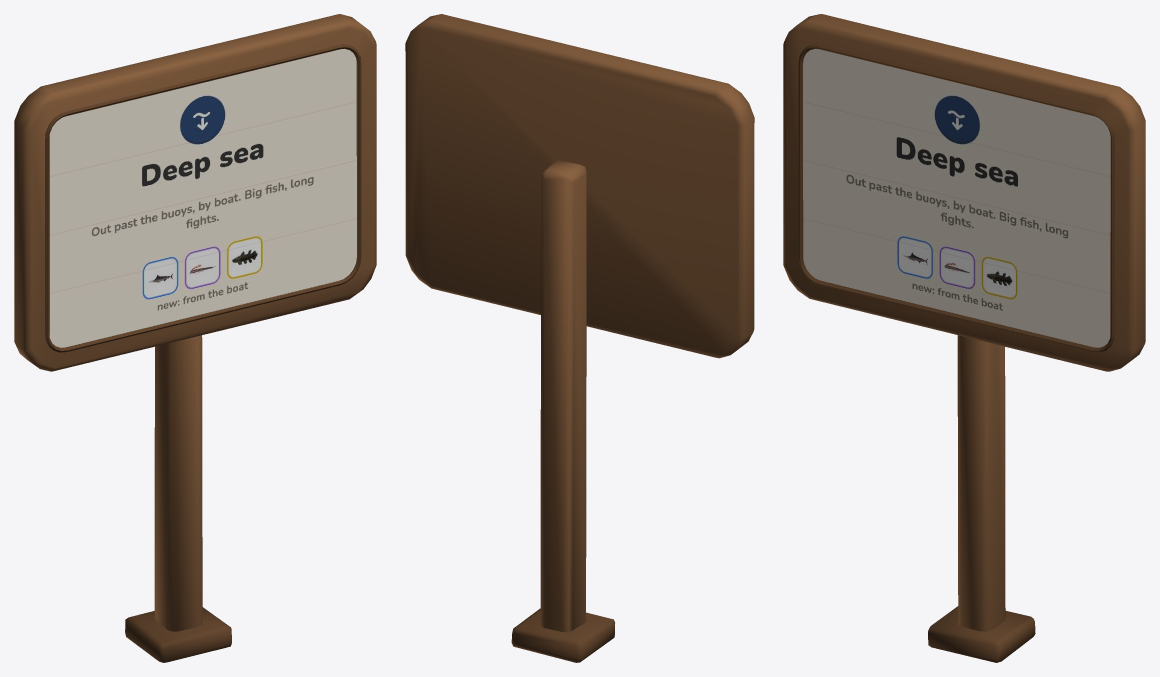
Rendered from water-sign-deep.glb.
The picture shows the model from 3 angles, left to right: view 1: azimuth 30°, elevation 25°; view 2: azimuth 150°, elevation 25°; view 3: azimuth 330°, elevation 25°; orthographic projection. The views are drawn at different scales.
Visible parts, largest first — view 1: water-sign-deep; view 2: water-sign-deep; view 3: water-sign-deep.
Part boxes in pixels (box(x1,y1,x2,y2)): water-sign-deep: box(14, 14, 376, 662); water-sign-deep: box(405, 14, 754, 662); water-sign-deep: box(783, 14, 1145, 662).
Bounding box in the file's own units: 1.15 × 1.87 × 0.253.
2 materials, 1 textured.
